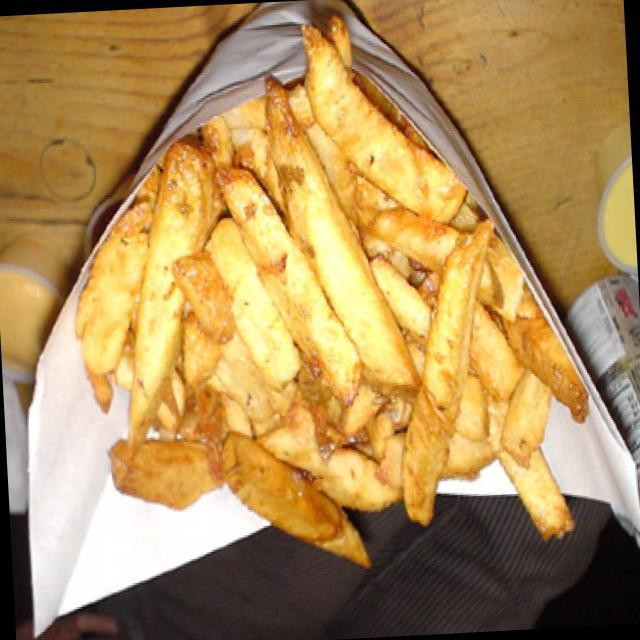French Fries: (60, 60, 576, 593)
